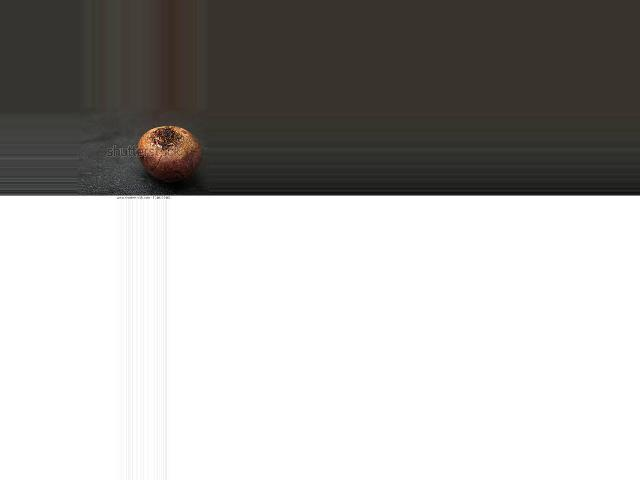beet: (138, 126, 203, 182)
